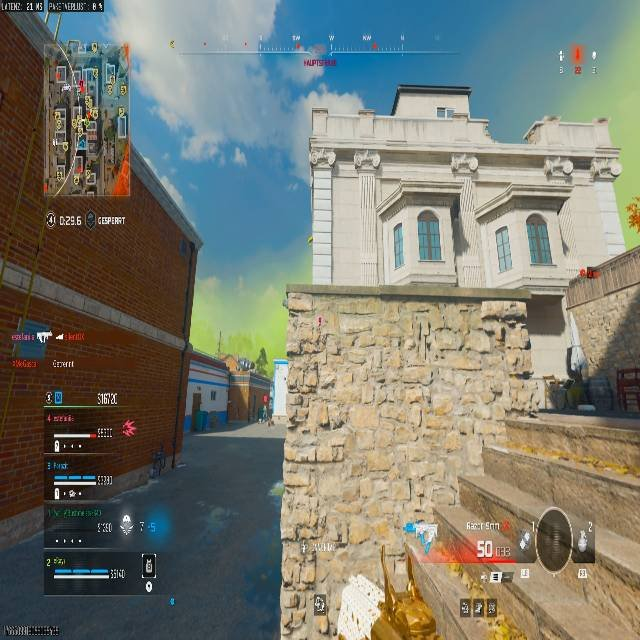player: (258, 398, 273, 427)
